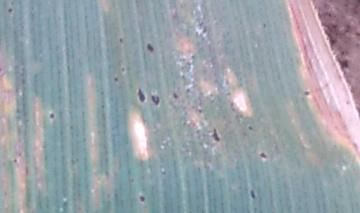tarspot: (134, 86, 147, 105), (255, 148, 271, 162), (211, 125, 221, 144), (144, 41, 158, 54), (149, 92, 161, 107), (247, 186, 258, 202), (45, 109, 57, 122), (137, 192, 148, 206), (259, 20, 270, 31), (302, 87, 311, 100), (170, 89, 179, 101), (5, 6, 15, 16), (183, 85, 193, 95), (10, 156, 20, 166), (245, 122, 254, 132), (117, 35, 125, 46), (111, 73, 120, 82)
